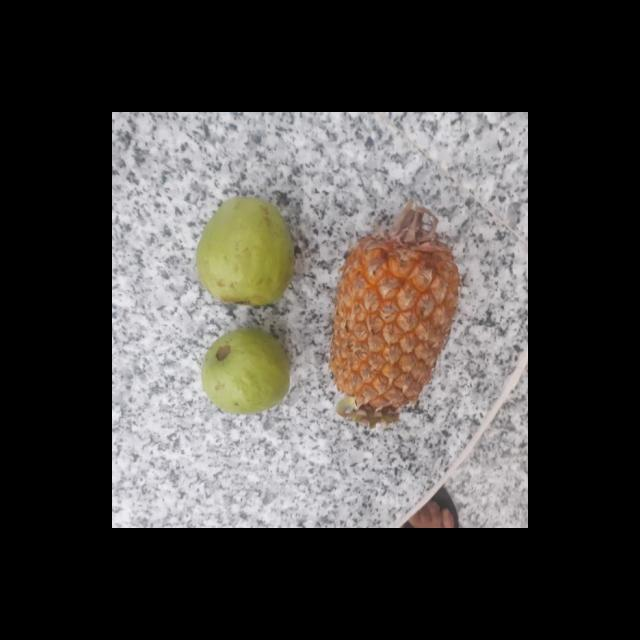guava: (191, 197, 294, 302), (197, 328, 290, 412)
pineapple: (329, 225, 461, 420)
